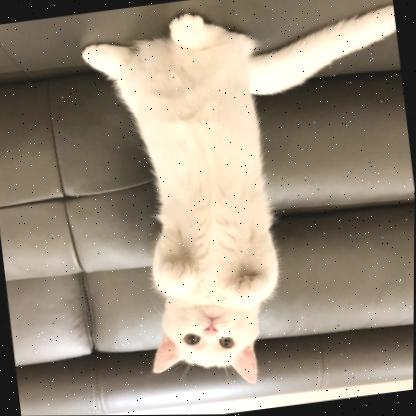cat: (67, 0, 416, 409)
